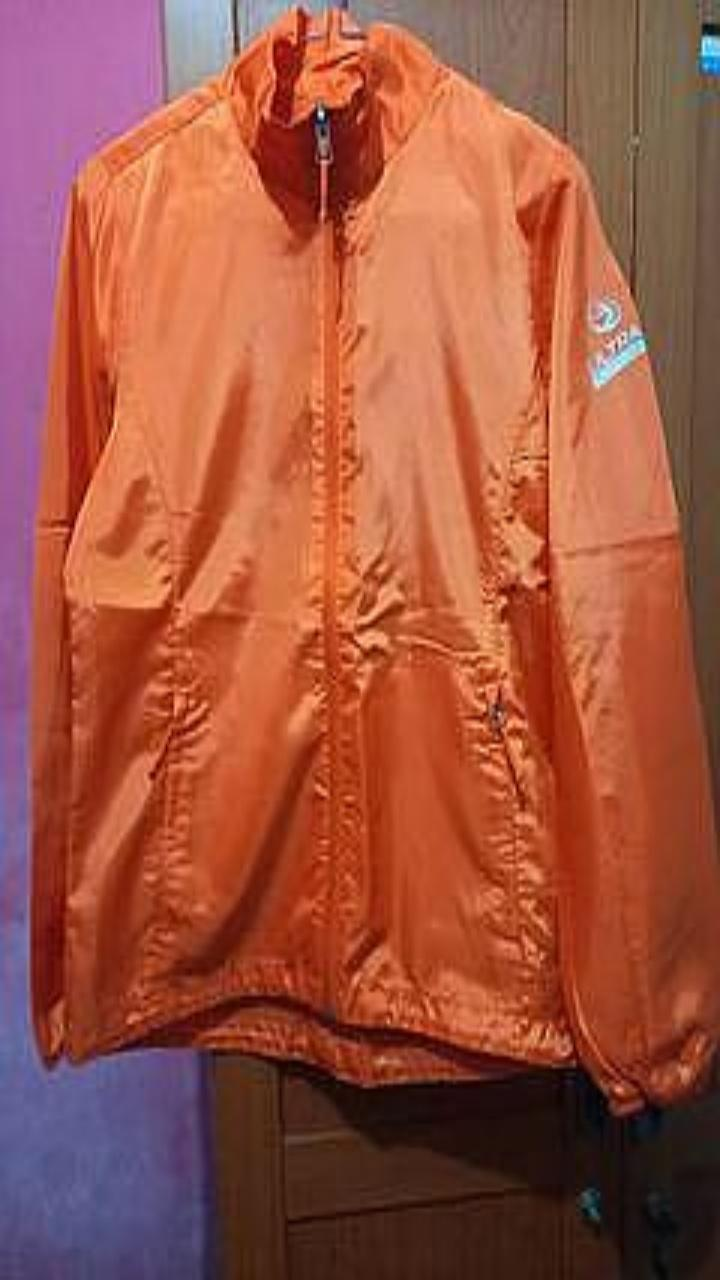Sports_Jacket: (30, 5, 719, 1115)
